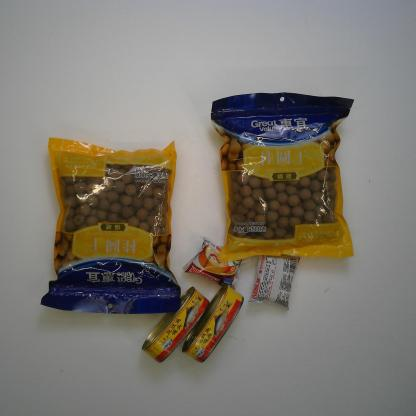Canned Food: (141, 286, 210, 364), (181, 285, 244, 364)
Dessert: (183, 235, 252, 291), (248, 254, 302, 311)
Dried Food: (39, 136, 183, 316), (209, 92, 356, 264)
